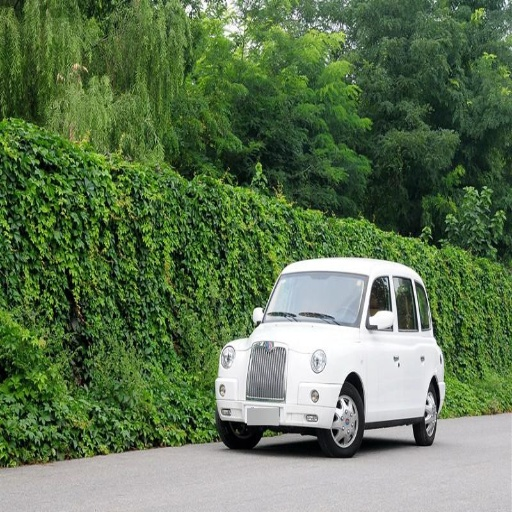front_glass: (271, 272, 363, 324)
trunk: (235, 347, 336, 416)
